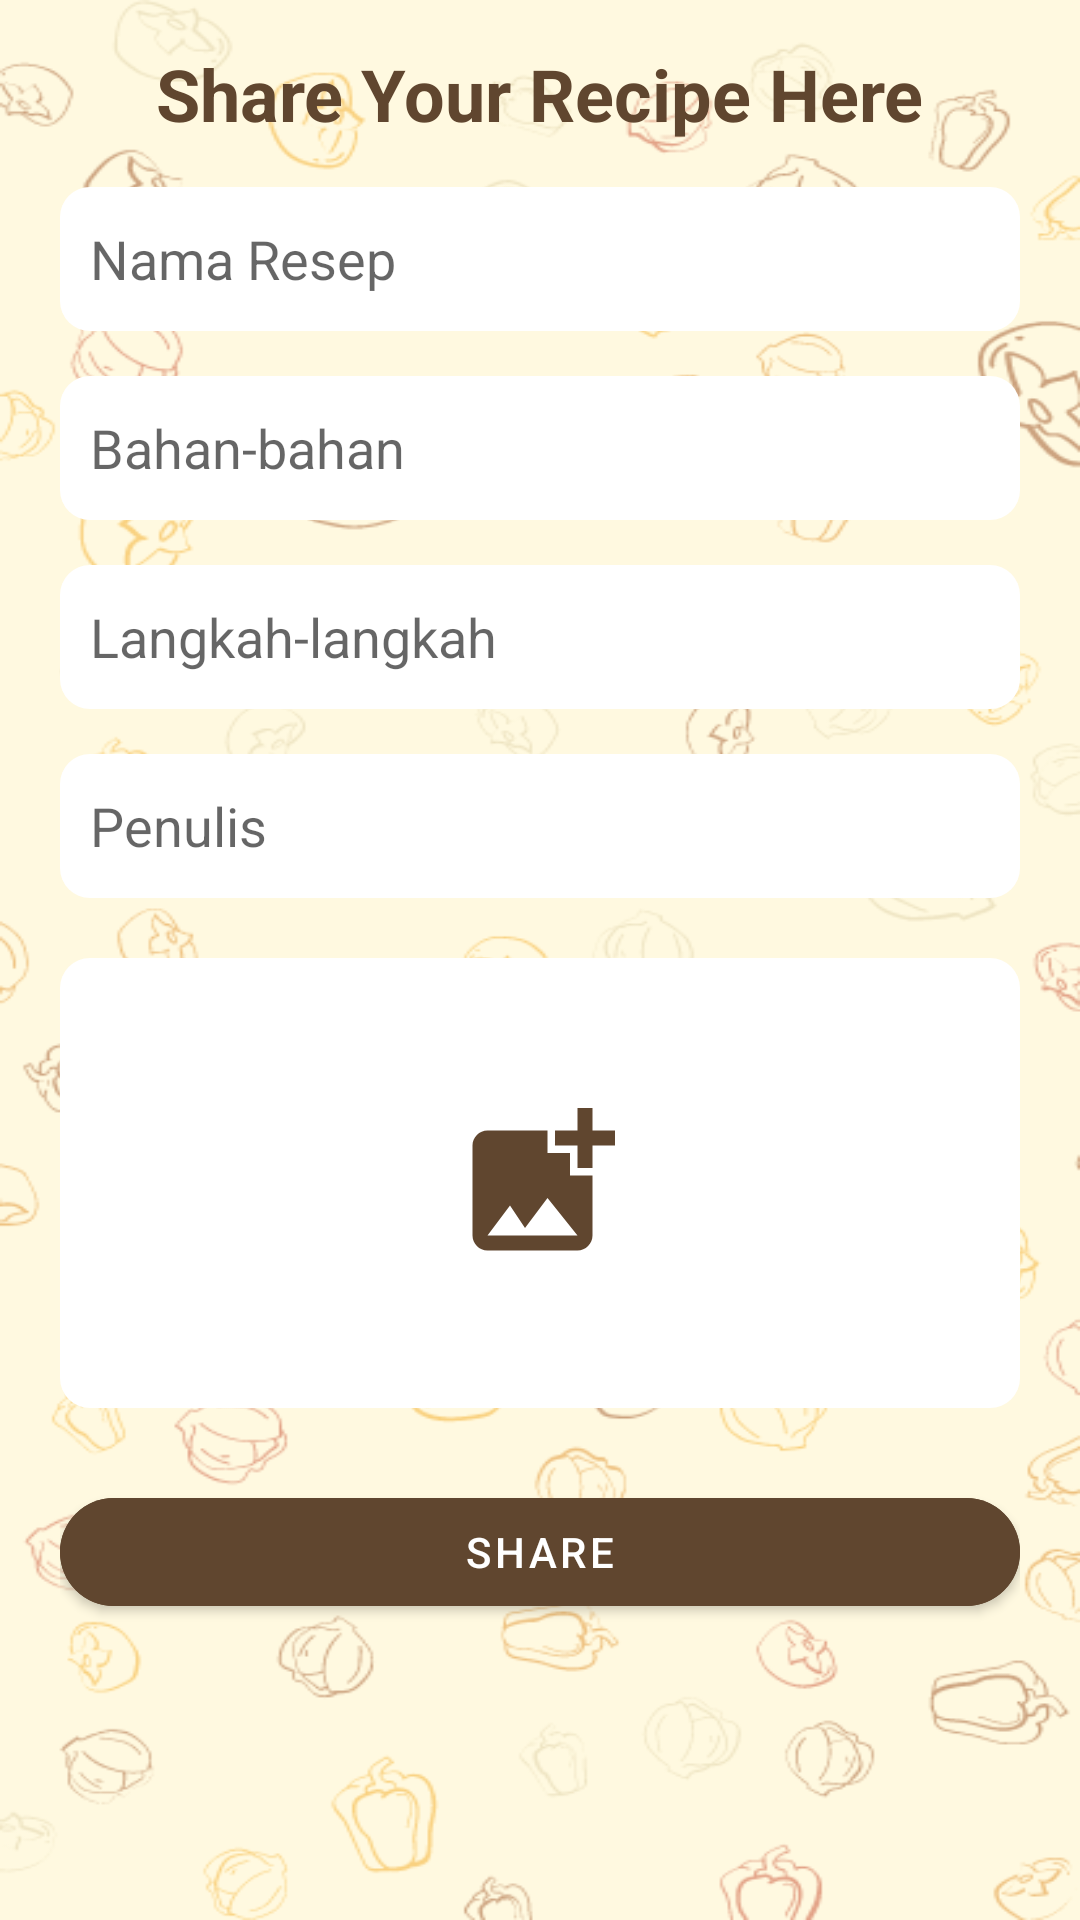

Where icons sit on this 1080 x 1920 app screen, as (x1, y1, x2, y2):
add photo alternate: (472, 1108, 615, 1251)
